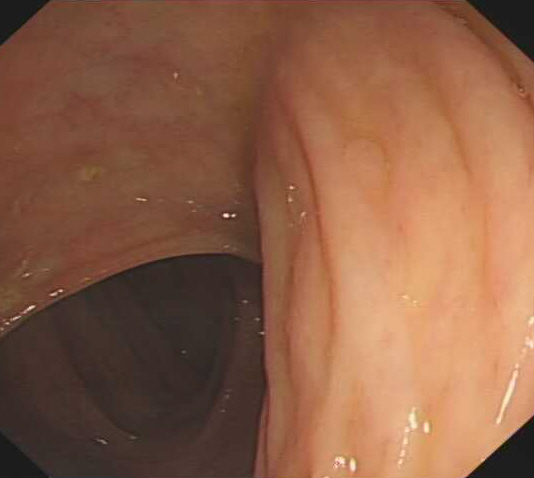others: (337, 136, 387, 202)
